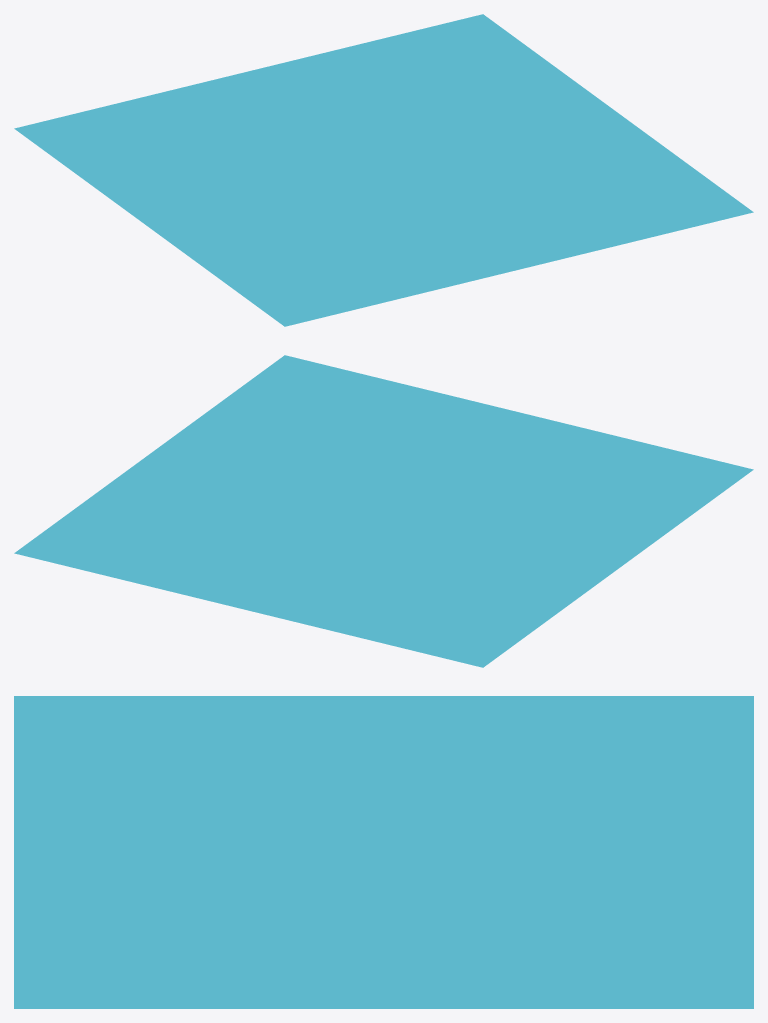
Rendered from sea.glb.
The picture shows the model from 3 angles, top to bottom: view 1: azimuth 30°, elevation 25°; view 2: azimuth 150°, elevation 25°; view 3: azimuth 270°, elevation 25°; orthographic projection. The views are drawn at different scales.
Visible parts, largest first — view 1: sea; view 2: sea; view 3: sea.
Boxes of the visible parts, x1,y1,x2,y2 form: sea: (14, 14, 753, 326); sea: (14, 355, 753, 667); sea: (14, 696, 753, 1008).
Bounding box in the file's own units: 215 × 0 × 215.
